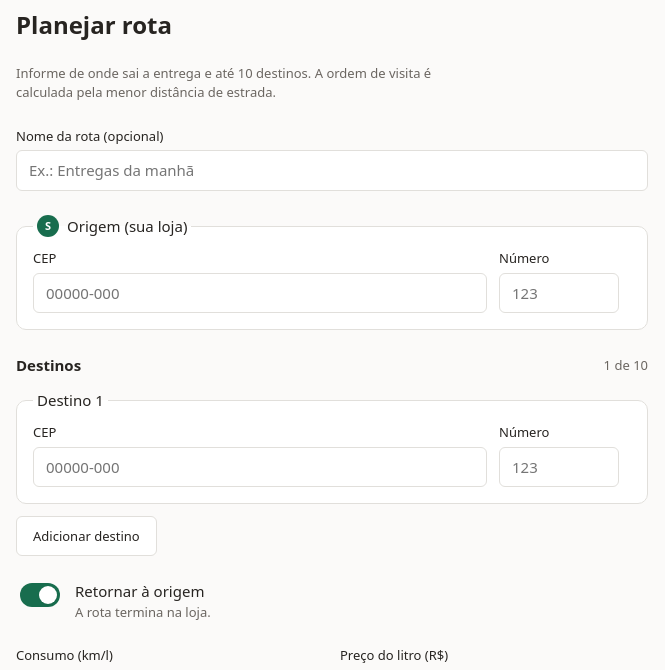
Test case: PlanPage › preenche o endereço quando o CEP é válido
In the field labelled "CEP" below "Origem (sua loja)": coordinates (260, 293) [33,273,487,313], type "01310100"
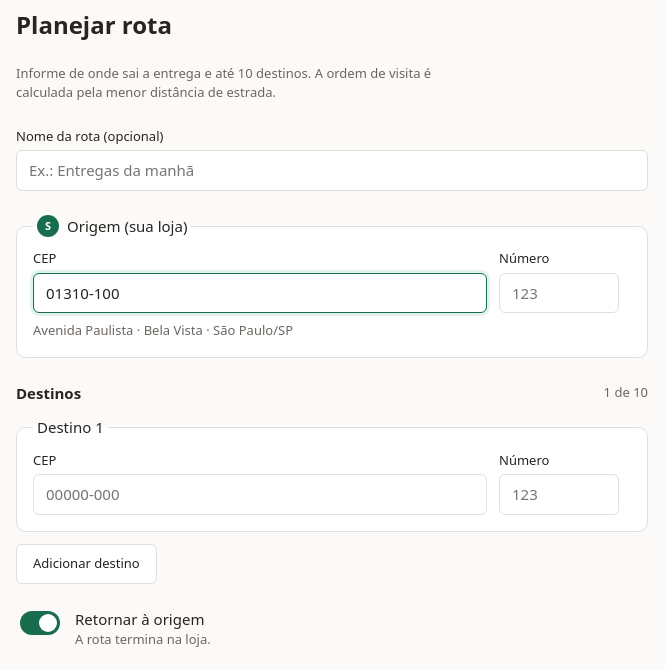
Expected: the text "Avenida Paulista · Bela Vista · São Paulo/SP" is shown, [33,321,293,339]
Expected: the field labelled "CEP" below "Origem (sua loja)" holds "01310-100", [33,273,487,313]
